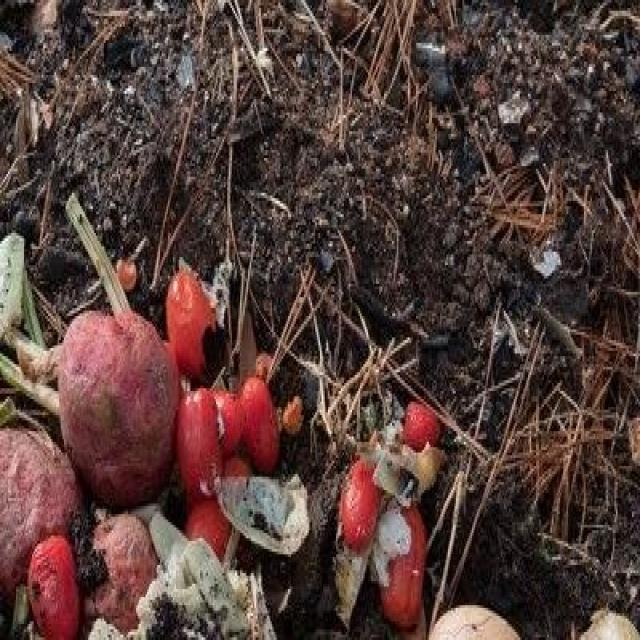Wet Waste: (1, 260, 518, 637)
